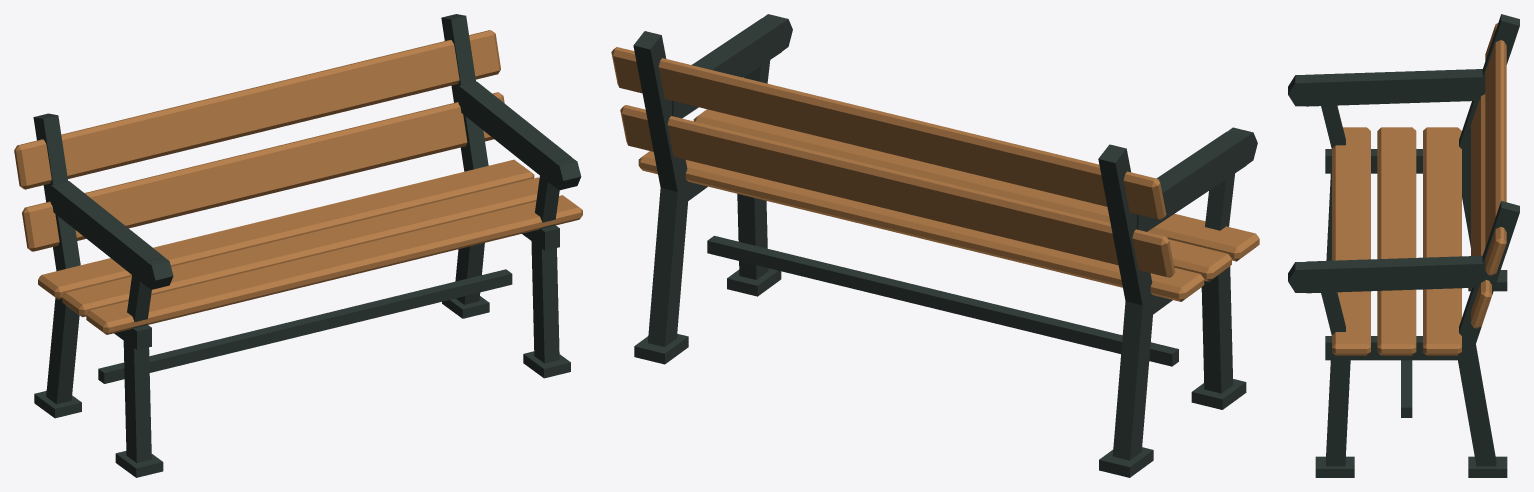
Rendered from harbor_pier_bench_v01.glb.
The picture shows the model from 3 angles, left to right: view 1: azimuth 30°, elevation 25°; view 2: azimuth 150°, elevation 25°; view 3: azimuth 270°, elevation 25°; orthographic projection. The views are drawn at different scales.
Visible parts, largest first — view 1: pier_bench; view 2: pier_bench; view 3: pier_bench.
Boxes of the visible parts, x1,y1,x2,y2 form: pier_bench: (14,14,582,477); pier_bench: (611,14,1259,477); pier_bench: (1288,14,1519,477).
Bounding box in the file's own units: 1.6 × 0.9134 × 0.7137.
